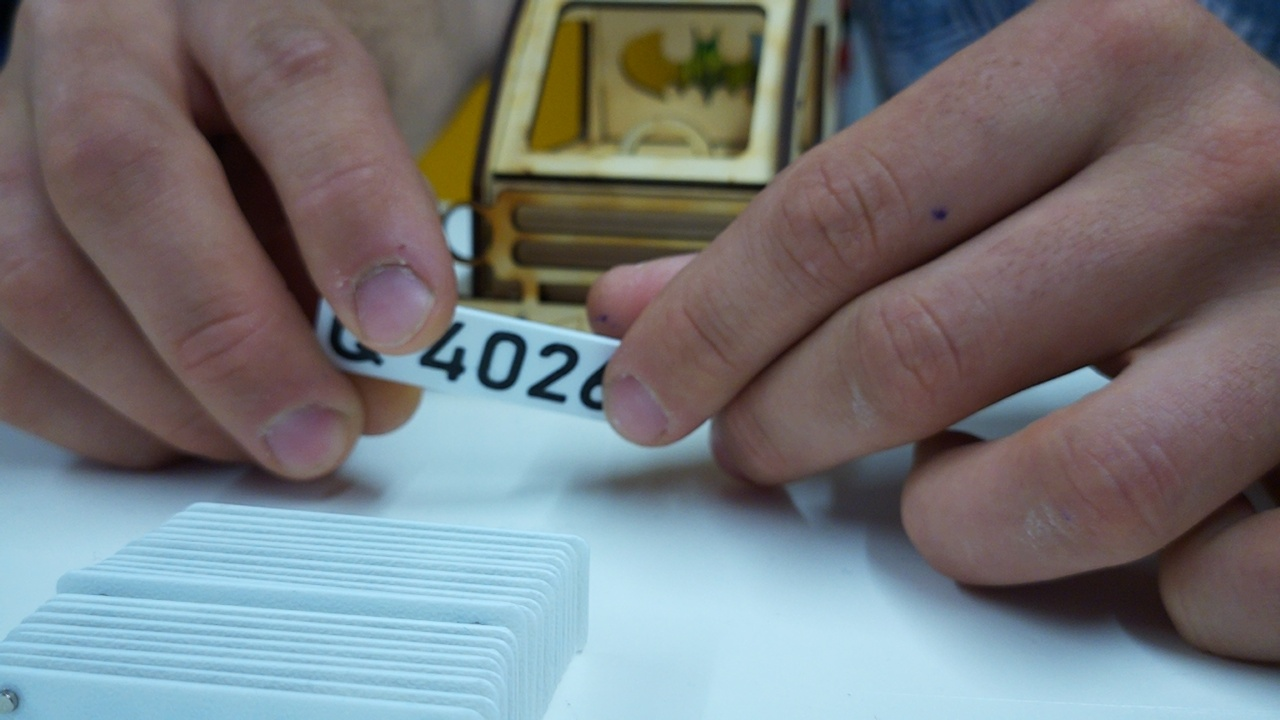license_plate: (311, 281, 659, 427), (481, 253, 485, 279)
